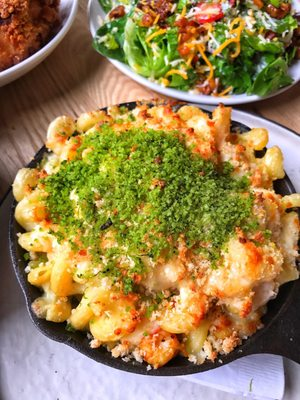sushi: (88, 0, 299, 114), (0, 0, 78, 89)
